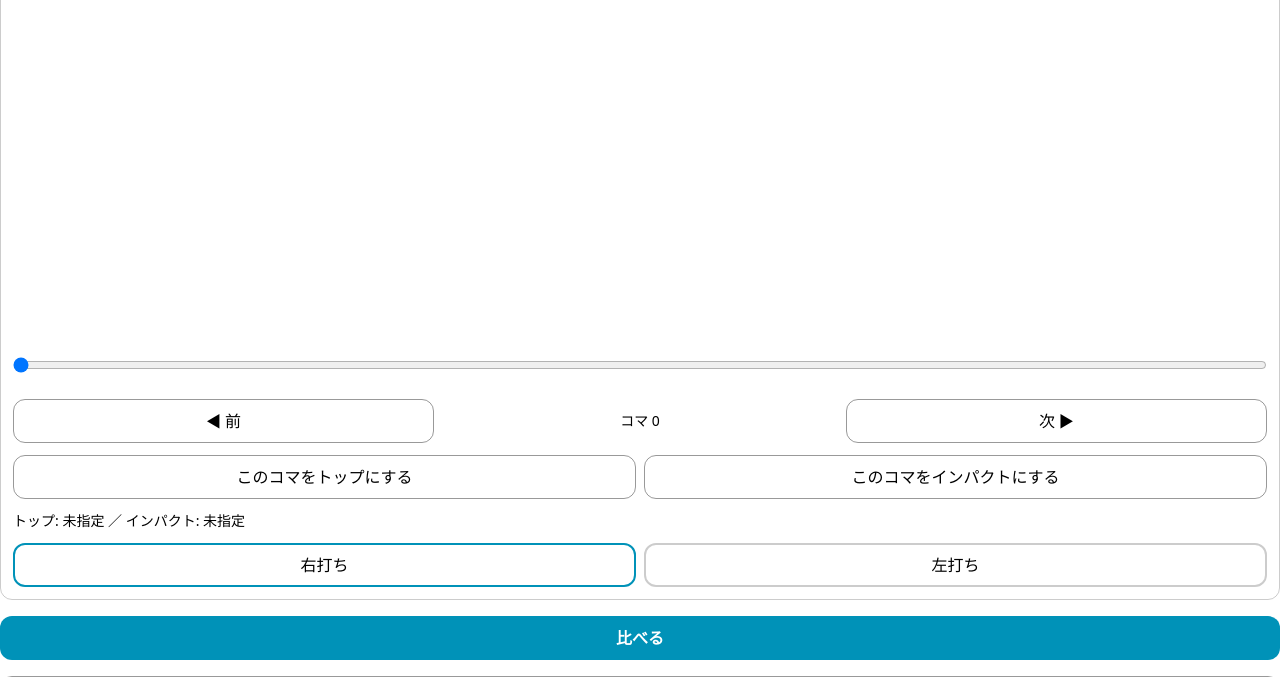
Test: SwingCompareFlow › 比べられないときは画面内に理由を出す
This screenshot has width=1280, height=677.
(page scrolled)
Click the button "比べる".
click(640, 638)  # box [0,616,1279,660]
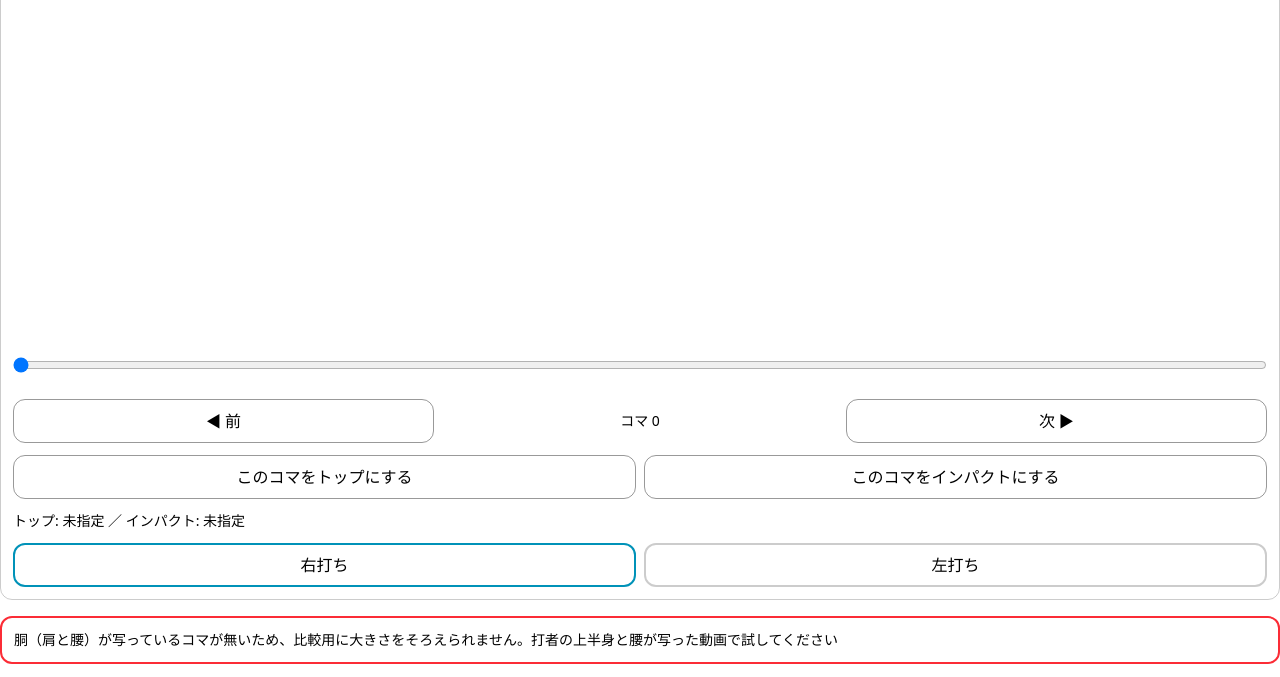
Expected: the message shows "打者の上半身と腰", [14,630,838,649]
